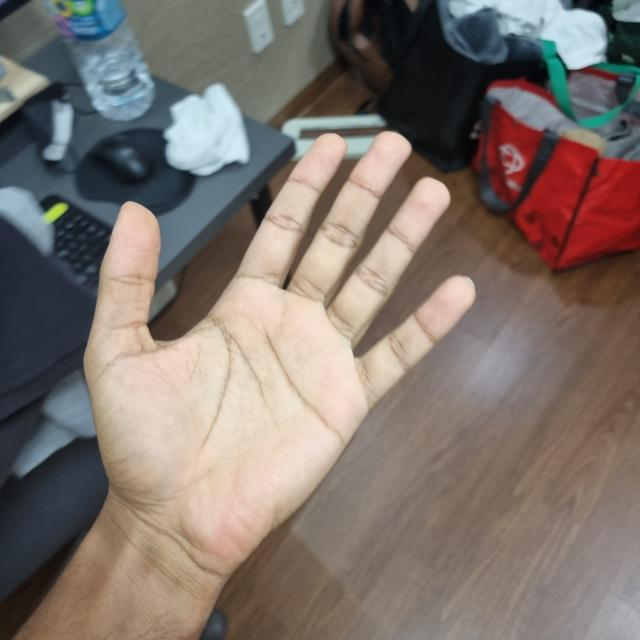Paper: (99, 133, 462, 564)
